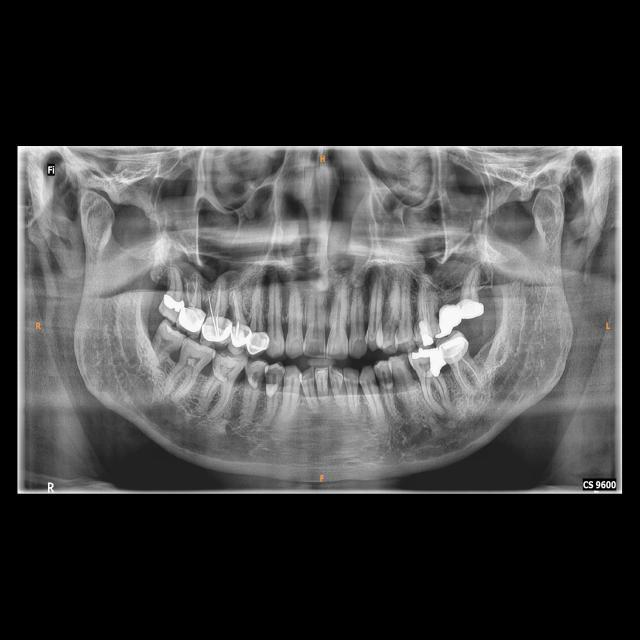dentin-curugu: (244, 366, 268, 393), (266, 366, 288, 392), (378, 364, 397, 394), (416, 358, 433, 375)
dolgu: (409, 347, 447, 379), (162, 292, 184, 322), (416, 320, 441, 344)
kanal-tedavisi: (451, 362, 483, 395), (207, 284, 225, 322), (229, 286, 246, 325), (418, 282, 432, 324), (182, 274, 201, 304)
kaplama: (436, 335, 472, 361), (432, 304, 463, 334), (178, 302, 205, 336), (202, 317, 234, 340), (248, 330, 273, 355), (462, 294, 482, 321), (228, 322, 250, 346)
